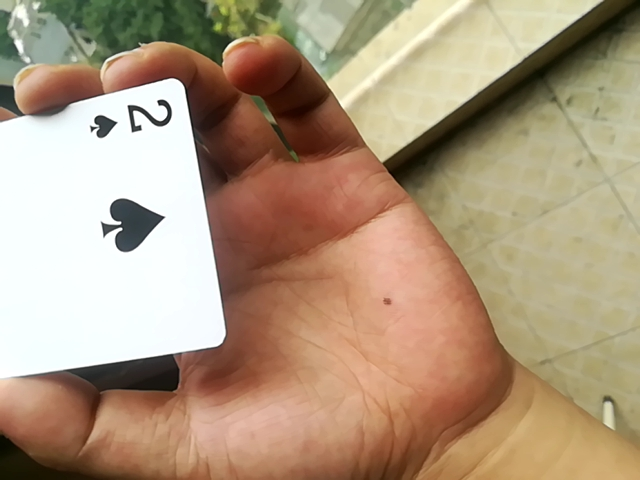ht 2: (2, 87, 215, 418)
